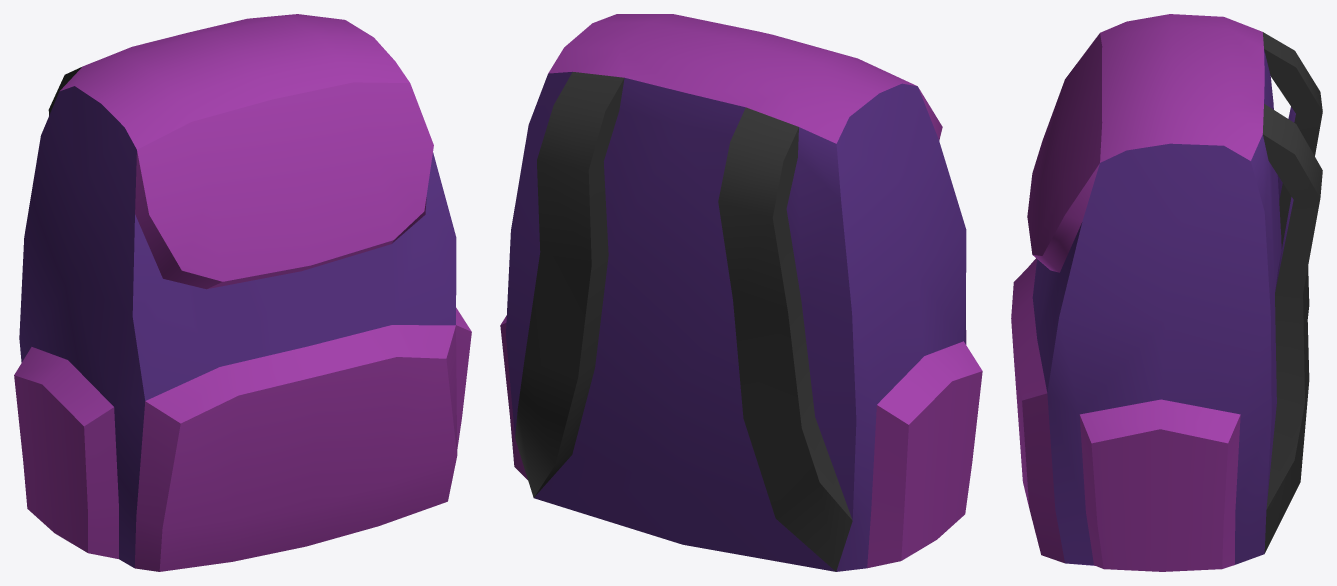
The model's file is bag_backpack_v2.fbx.
The picture shows the model from 3 angles, left to right: view 1: azimuth 30°, elevation 25°; view 2: azimuth 150°, elevation 25°; view 3: azimuth 270°, elevation 25°; orthographic projection. The views are drawn at different scales.
Visible parts, largest first — view 1: bag_backpack_v2; view 2: bag_backpack_v2; view 3: bag_backpack_v2.
Boxes of the visible parts, x1,y1,x2,y2 form: bag_backpack_v2: (14, 14, 471, 571); bag_backpack_v2: (500, 14, 982, 571); bag_backpack_v2: (1011, 14, 1322, 571).
Bounding box in the file's own units: 47.79 × 51.64 × 33.01.
